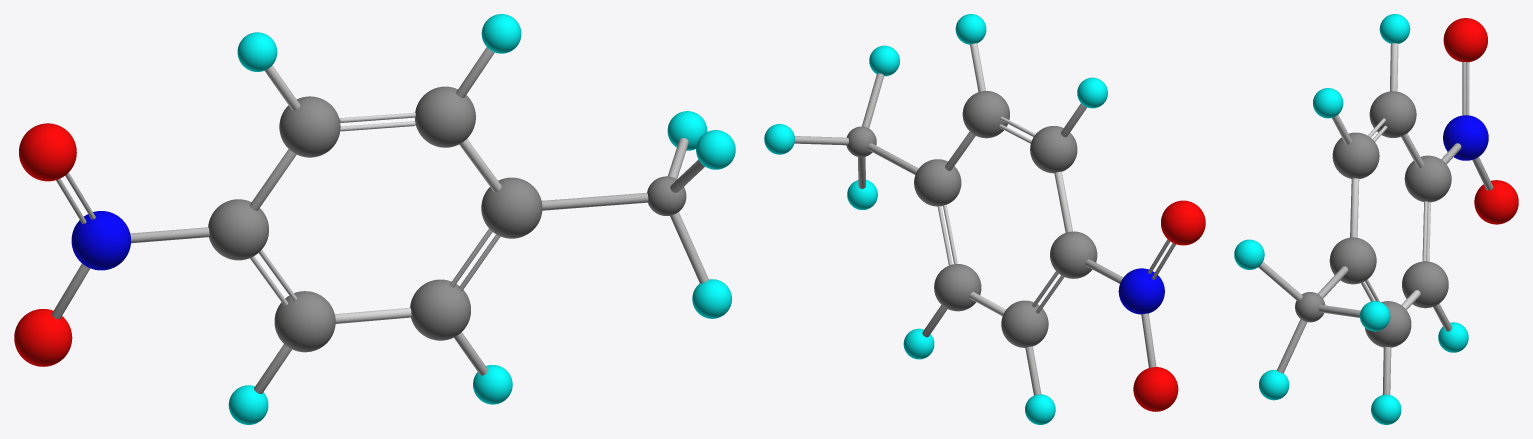
Rendered from p-nitrotoluene.glb.
3 renders of one model, left to right at view 1: azimuth 30°, elevation 25°; view 2: azimuth 150°, elevation 25°; view 3: azimuth 270°, elevation 25°, orthographic. The views are drawn at different scales.
Visible parts, largest first — view 1: CMAtom_0, CMAtom_5, CMAtom_4, CMAtom_2, CMAtom_1, CMAtom_3, CMAtom_12, CMAtom_10, CMAtom_11, CMAtom_15, CMAtom_7, CMAtom_9 (+10 smaller); view 2: CMAtom_4, CMAtom_3, CMAtom_1, CMAtom_5, CMAtom_2, CMAtom_0, CMAtom_12, CMAtom_11, CMAtom_10, CMAtom_7, CMAtom_14, CMAtom_6 (+11 smaller); view 3: CMAtom_5, CMAtom_2, CMAtom_1, CMAtom_3, CMAtom_4, CMAtom_10, CMAtom_12, CMAtom_11, CMAtom_0, CMAtom_14, CMAtom_15, CMAtom_8 (+14 smaller).
Part boxes in pixels (x1,y1,x2,y2): CMAtom_0: (410, 279, 470, 340); CMAtom_5: (415, 86, 475, 147); CMAtom_4: (274, 291, 335, 352); CMAtom_2: (208, 199, 268, 260); CMAtom_1: (279, 96, 340, 157); CMAtom_3: (481, 177, 542, 238); CMAtom_12: (71, 211, 130, 270); CMAtom_10: (19, 123, 76, 181); CMAtom_11: (14, 309, 72, 366); CMAtom_15: (696, 130, 735, 169); CMAtom_7: (237, 32, 277, 71); CMAtom_9: (481, 14, 521, 53); CMAtom_4: (1001, 300, 1048, 347); CMAtom_3: (914, 159, 961, 206); CMAtom_1: (1030, 126, 1077, 173); CMAtom_5: (962, 91, 1009, 138); CMAtom_2: (1050, 231, 1097, 278); CMAtom_0: (934, 264, 981, 311); CMAtom_12: (1118, 268, 1164, 314); CMAtom_11: (1133, 367, 1178, 411); CMAtom_10: (1161, 200, 1205, 245); CMAtom_7: (1077, 77, 1107, 108); CMAtom_14: (764, 124, 794, 154); CMAtom_6: (1025, 394, 1055, 424); CMAtom_5: (1332, 132, 1379, 178); CMAtom_2: (1404, 155, 1451, 202); CMAtom_1: (1369, 91, 1416, 137); CMAtom_3: (1329, 237, 1376, 284); CMAtom_4: (1402, 261, 1448, 308); CMAtom_10: (1443, 18, 1487, 62); CMAtom_12: (1443, 115, 1488, 160); CMAtom_11: (1474, 180, 1518, 224); CMAtom_0: (1365, 301, 1411, 347); CMAtom_14: (1360, 301, 1390, 331); CMAtom_15: (1234, 239, 1264, 269); CMAtom_8: (1371, 394, 1401, 424).
Bounding box in the file's own units: 7.24 × 4.73 × 3.74.
